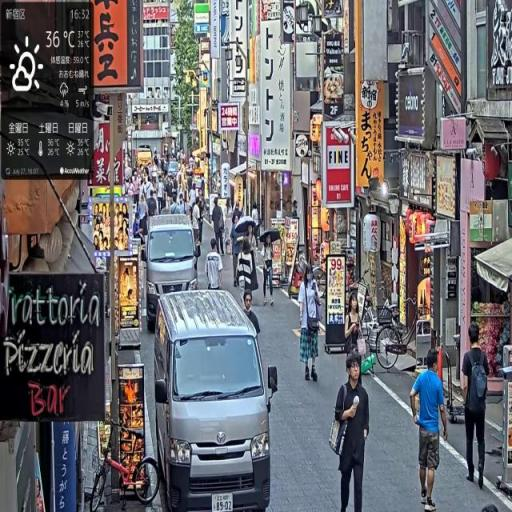person: (332, 352, 372, 512), (410, 346, 448, 512), (461, 323, 491, 492), (297, 263, 324, 384), (260, 233, 277, 308), (207, 239, 225, 293), (243, 291, 262, 337), (213, 196, 226, 259)
